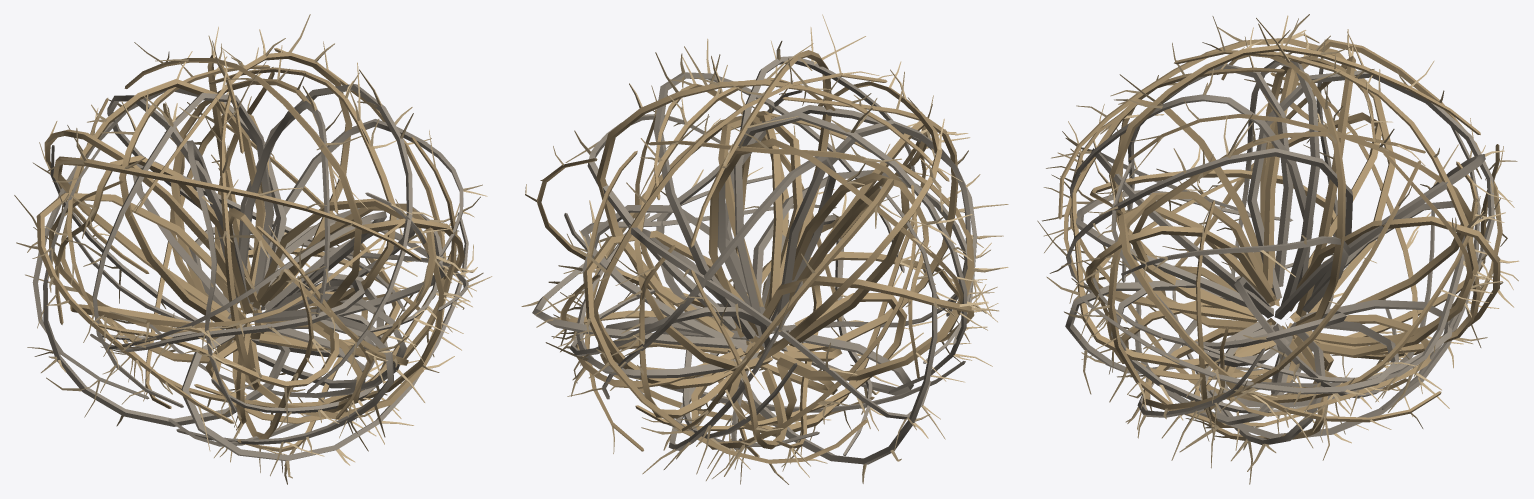
Rendered from tumbleweed_2.glb.
The picture shows the model from 3 angles, left to right: view 1: azimuth 30°, elevation 25°; view 2: azimuth 150°, elevation 25°; view 3: azimuth 270°, elevation 25°; orthographic projection. The views are drawn at different scales.
Parts seen in each view (by area): view 1: tumbleweed; view 2: tumbleweed; view 3: tumbleweed.
Part boxes in pixels (x1,y1,x2,y2): tumbleweed: [14, 14, 492, 484]; tumbleweed: [521, 14, 1008, 484]; tumbleweed: [1037, 14, 1519, 484].
Bounding box in the file's own units: 1.06 × 0.9896 × 1.03.
